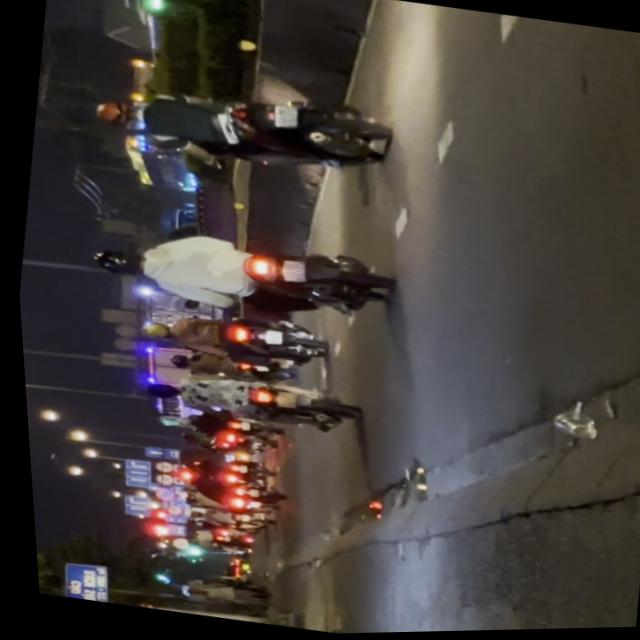helmet: (85, 242, 142, 277), (89, 95, 134, 126)
licenseplate: (78, 211, 394, 334), (81, 66, 394, 189)
nohelmet: (268, 102, 298, 131), (274, 257, 303, 284)
